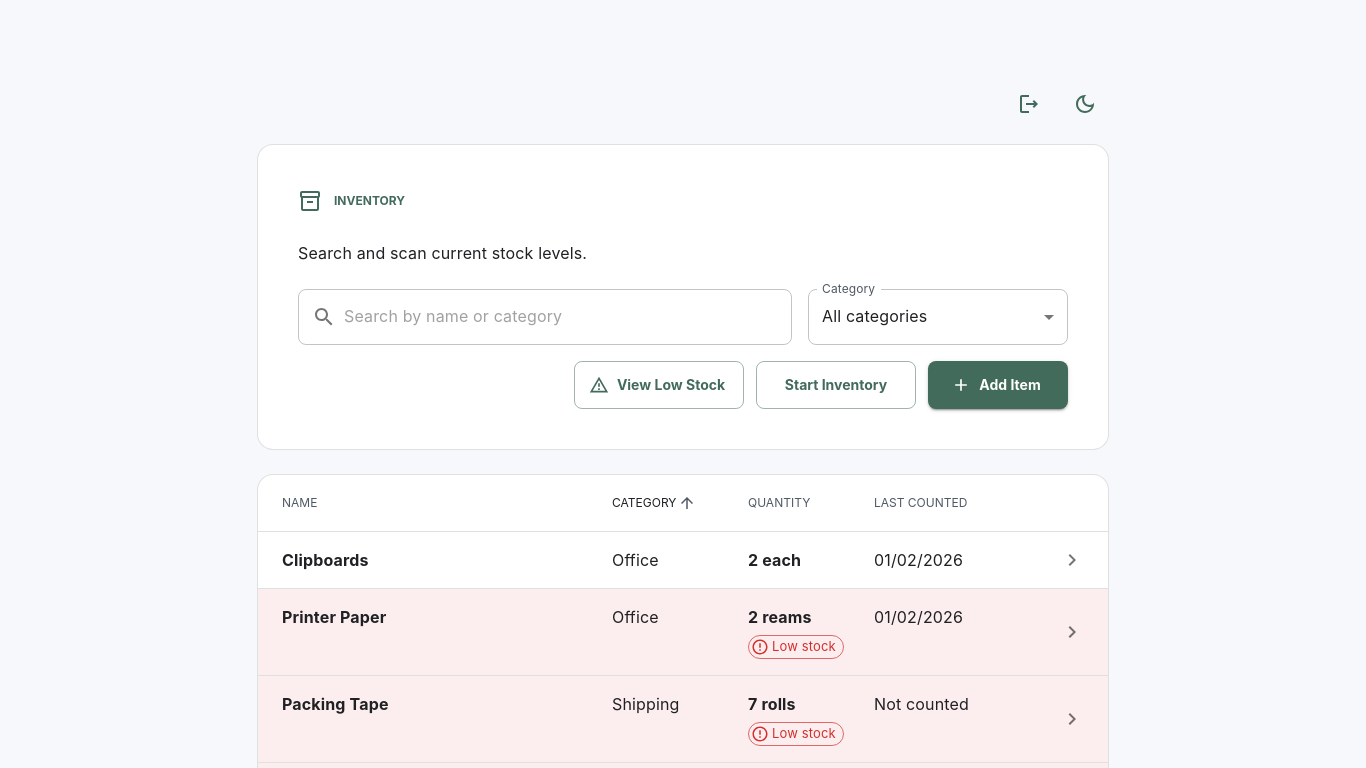
Scenario: HomePage › opens a low-stock dialog using all loaded items regardless of active filters
Expected: the text "Printer Paper" is shown, [282, 607, 386, 627]
Type "printer" into the field named "Search inventory" at (568, 317), box [344, 289, 792, 345]
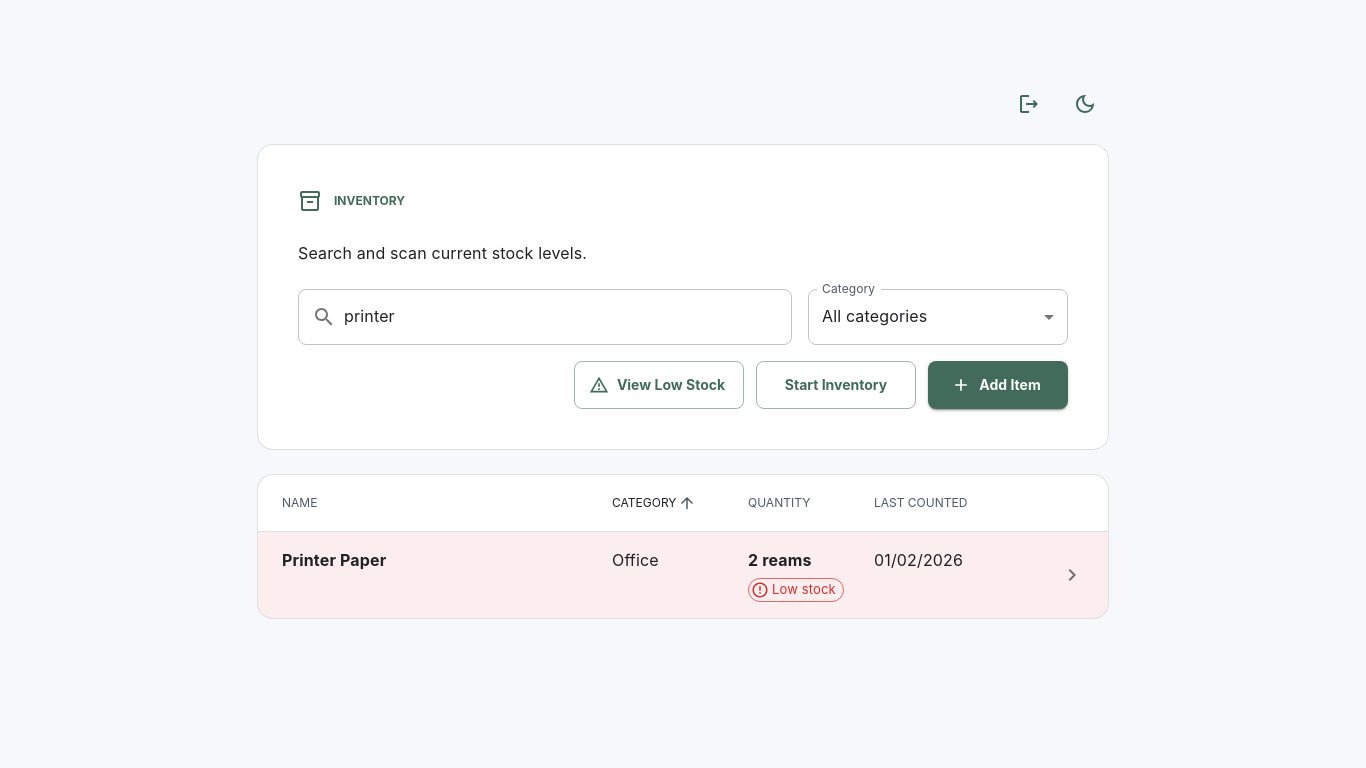
Now the link "Packing Tape" is gone
Click the button "View Low Stock" at (659, 385), box [574, 361, 744, 409]
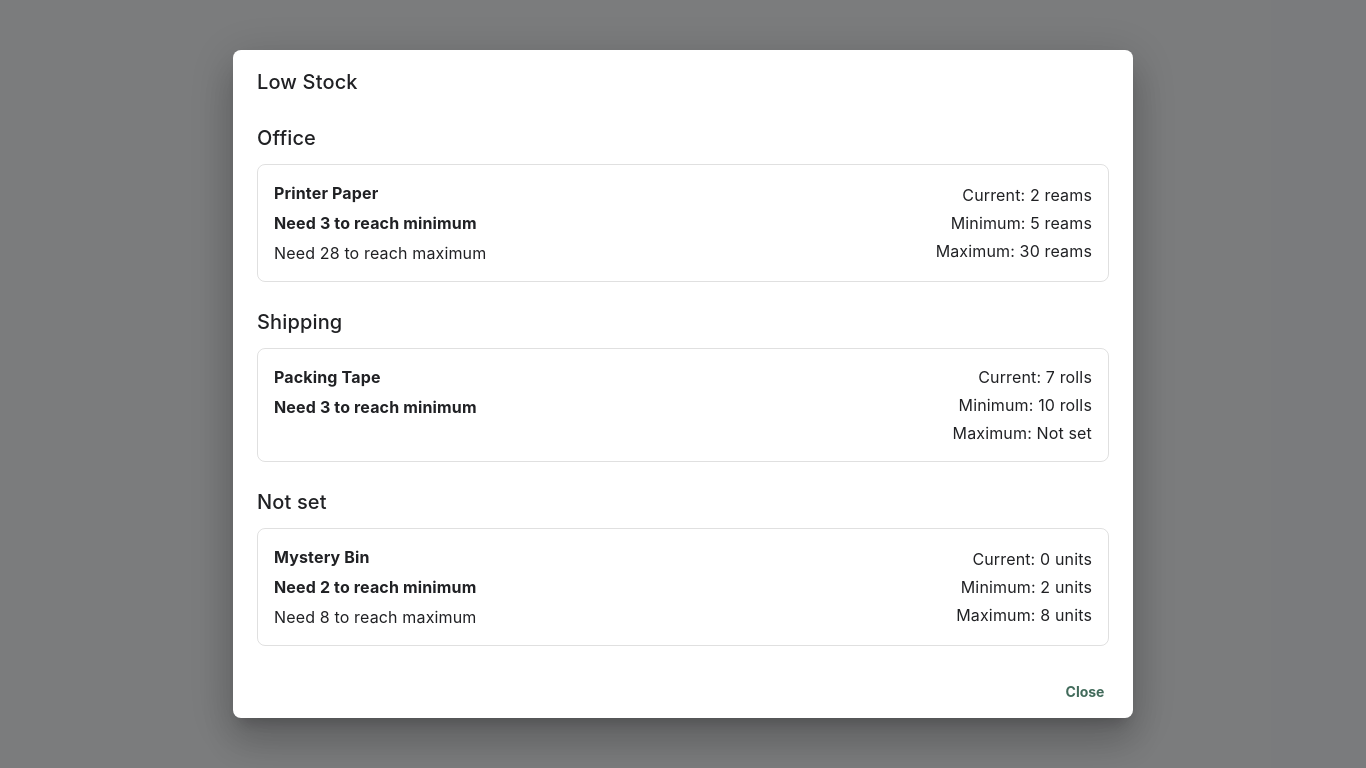
Now the heading "Office" is shown, box [257, 126, 316, 150]
Now the heading "Shipping" is shown, box [257, 310, 342, 334]
Now the heading "Not set" is shown, box [257, 490, 327, 514]
